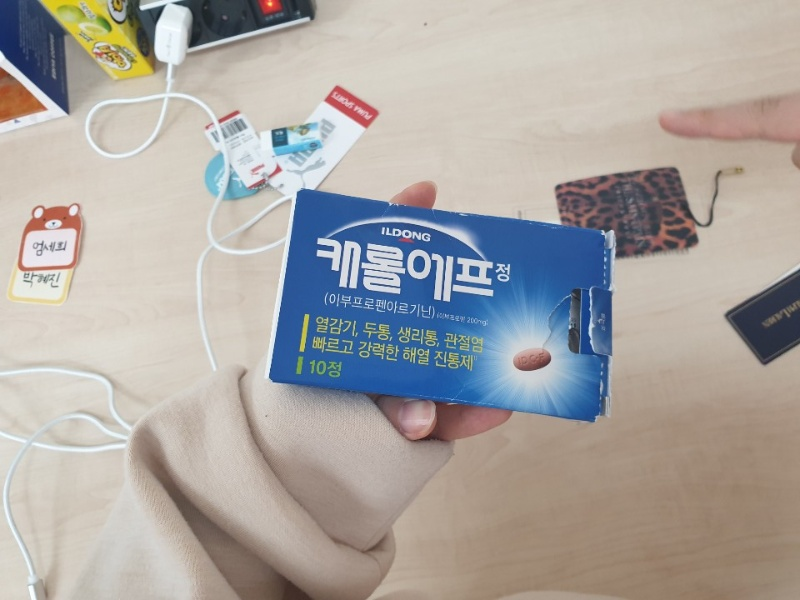carolF: (272, 188, 609, 423)
